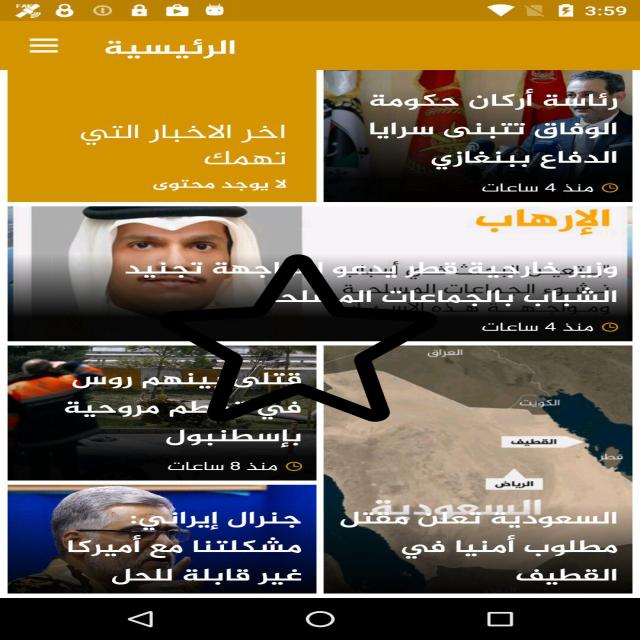forced continuity: (160, 251, 438, 425)
